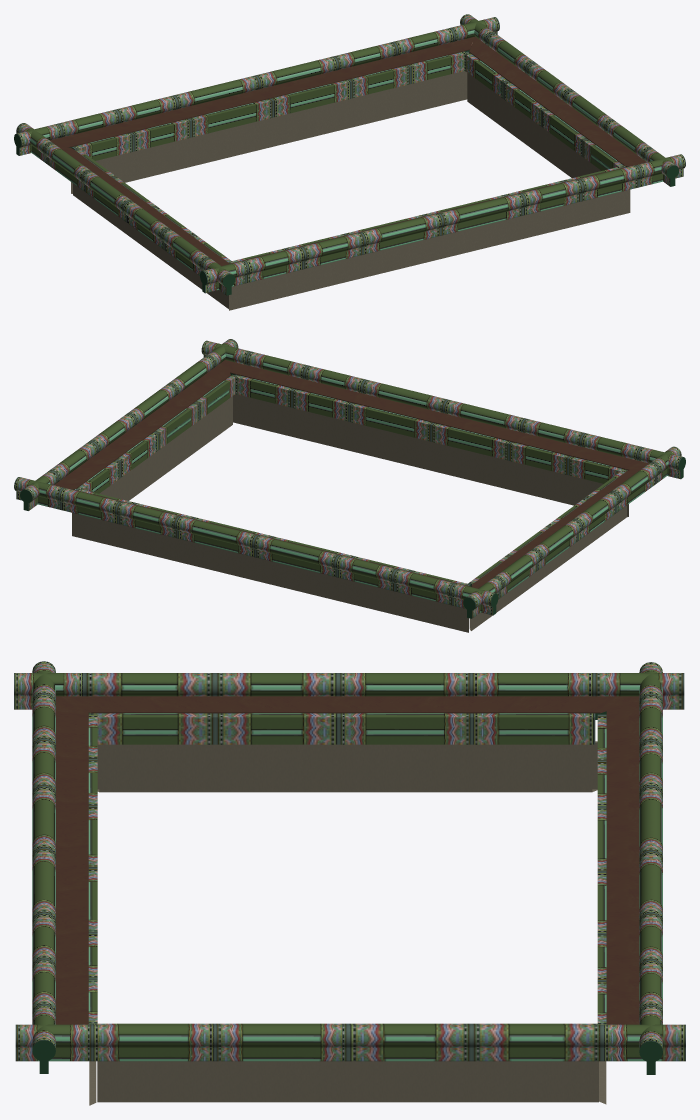
The model's file is SM_Geumsan_Mi_Dori_C.fbx.
The picture shows the model from 3 angles, top to bottom: view 1: azimuth 30°, elevation 25°; view 2: azimuth 150°, elevation 25°; view 3: azimuth 270°, elevation 25°; orthographic projection. The views are drawn at different scales.
Parts seen in each view (by area): view 1: SM_Geumsan_Mi_Dori_C; view 2: SM_Geumsan_Mi_Dori_C; view 3: SM_Geumsan_Mi_Dori_C.
Part boxes in pixels (<box>): SM_Geumsan_Mi_Dori_C: <box>14,14,685,310</box>; SM_Geumsan_Mi_Dori_C: <box>14,339,685,632</box>; SM_Geumsan_Mi_Dori_C: <box>14,661,685,1105</box>.
Bounding box in the file's own units: 1364 × 161 × 1020.
